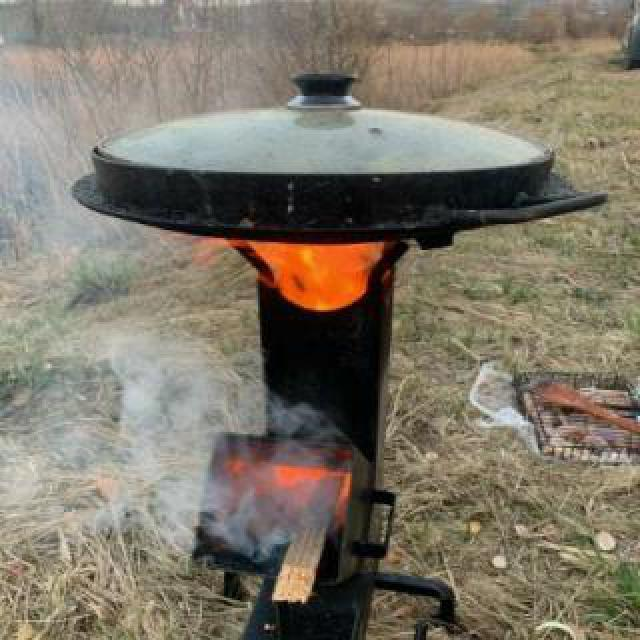smoke: (54, 340, 390, 580)
zfire: (240, 232, 386, 332)
